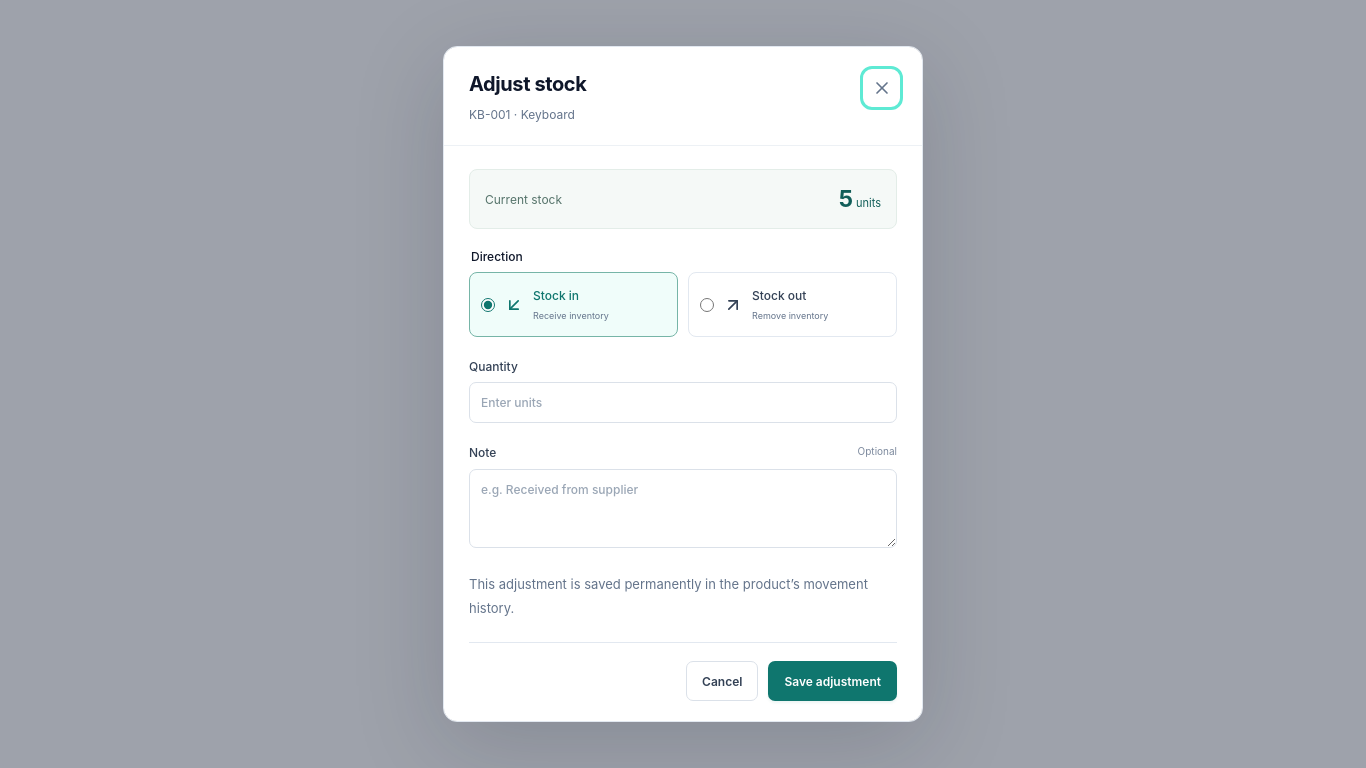
Test: displays available quantity when the backend rejects stock out
Click the radio button labelled "Stock out Remove inventory" at (707, 305), box x1=700 y1=298 x2=714 y2=312
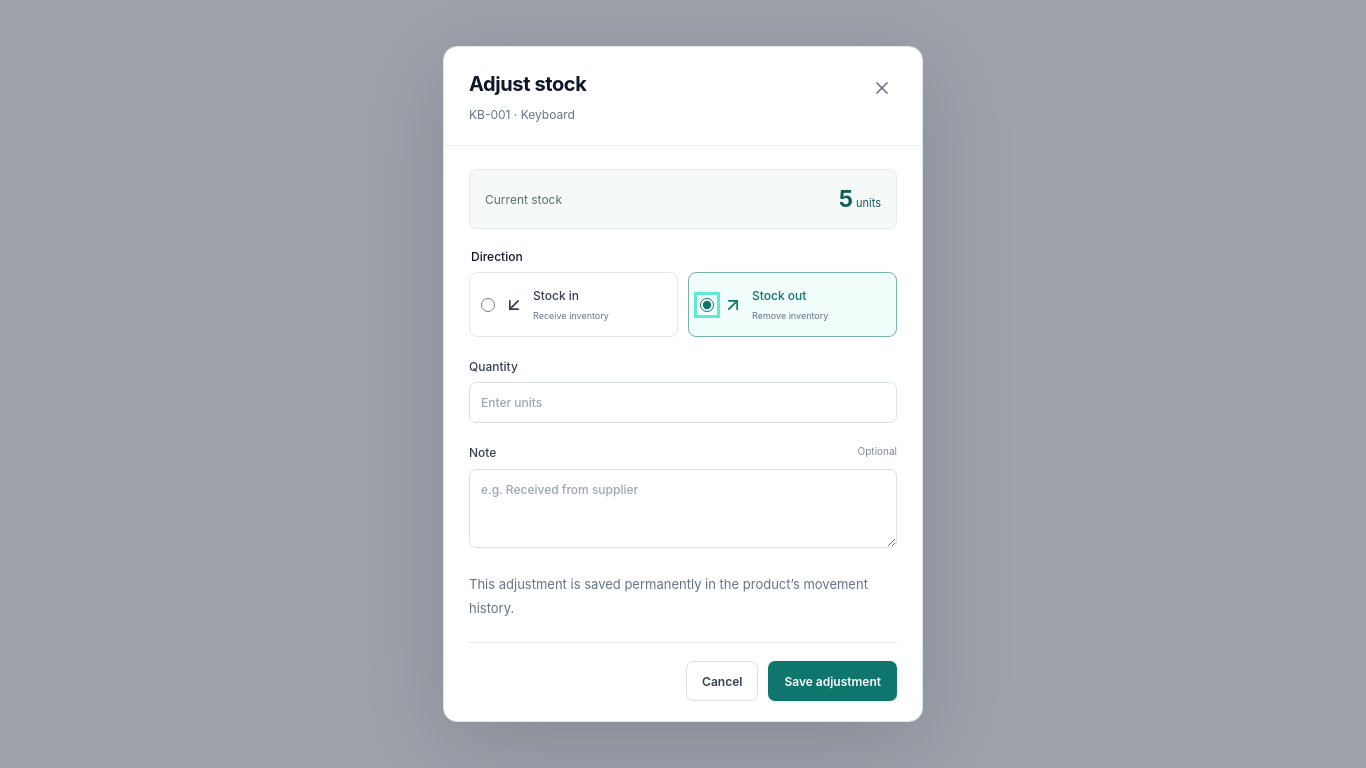
Type "10" into the field labelled "Quantity" at (683, 403), box x1=469 y1=382 x2=897 y2=423
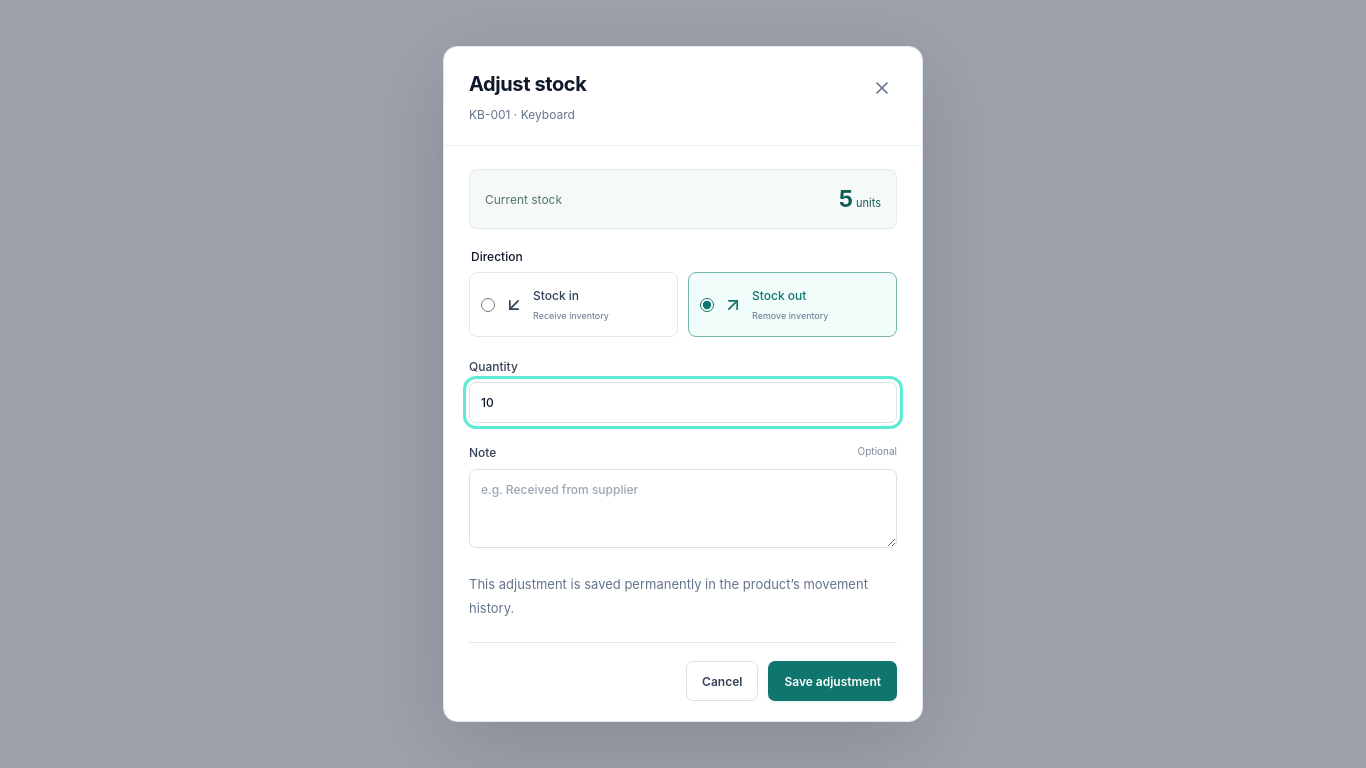
Click the button "Save adjustment" at (833, 681), box x1=768 y1=661 x2=897 y2=701
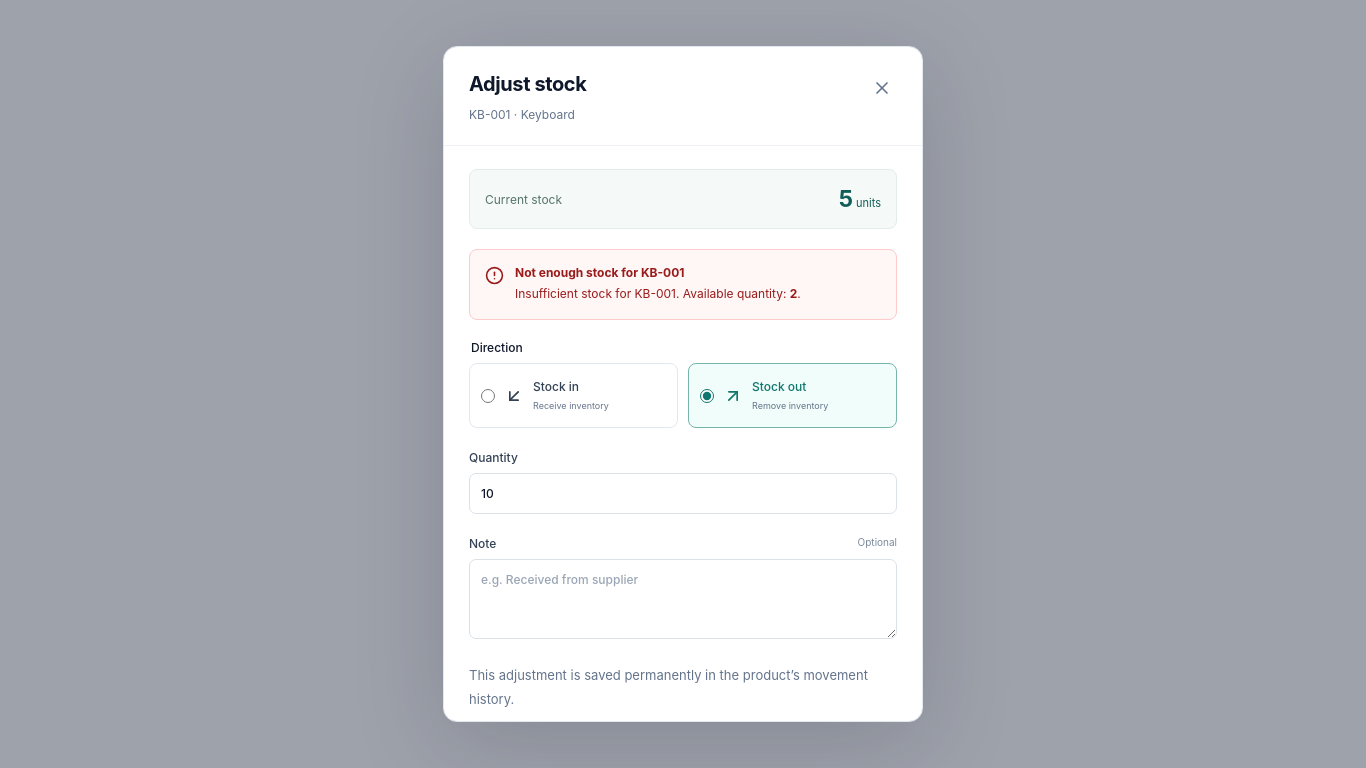
Expected: the dialog is shown, x1=443 y1=46 x2=923 y2=722
Expected: the message shows "Available quantity: 2", x1=469 y1=250 x2=897 y2=320
